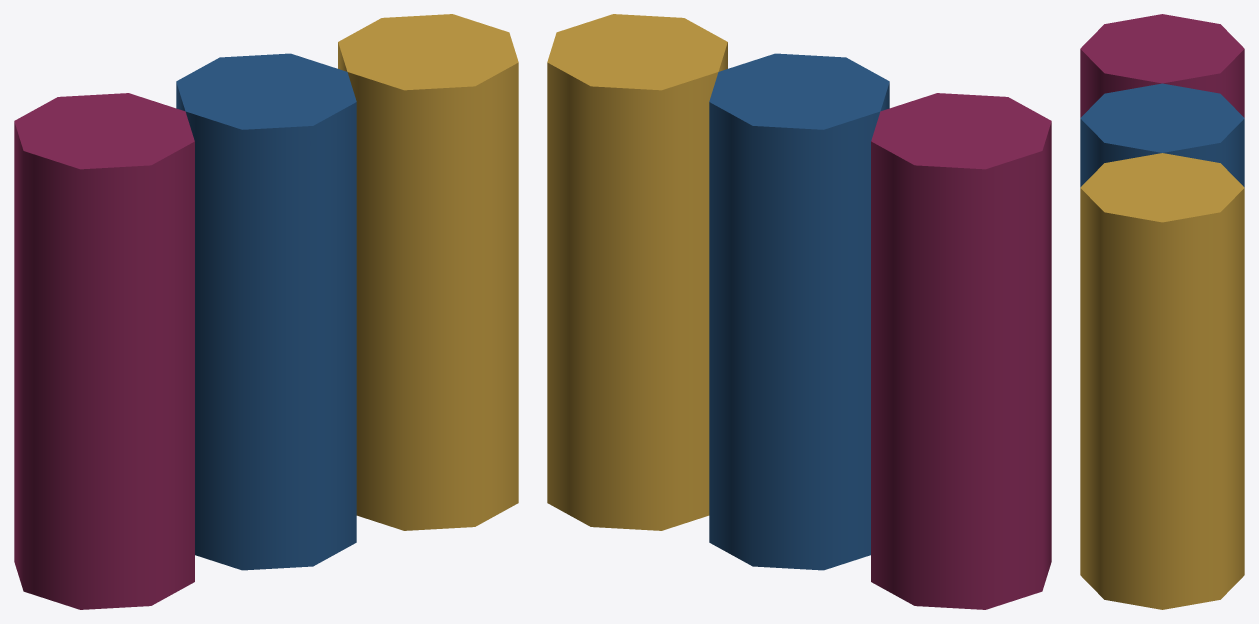
The model's file is letrero-telas.glb.
3 views of the same model, side by side, from view 1: azimuth 30°, elevation 25°; view 2: azimuth 150°, elevation 25°; view 3: azimuth 270°, elevation 25° (orthographic). The views are drawn at different scales.
Visible parts, largest first — view 1: letrero-telas; view 2: letrero-telas; view 3: letrero-telas.
Part boxes in pixels (<box>): letrero-telas: <box>14,14,518,609</box>; letrero-telas: <box>547,14,1051,609</box>; letrero-telas: <box>1080,14,1244,609</box>.
Bounding box in the file's own units: 0.3 × 0.26 × 0.1.
